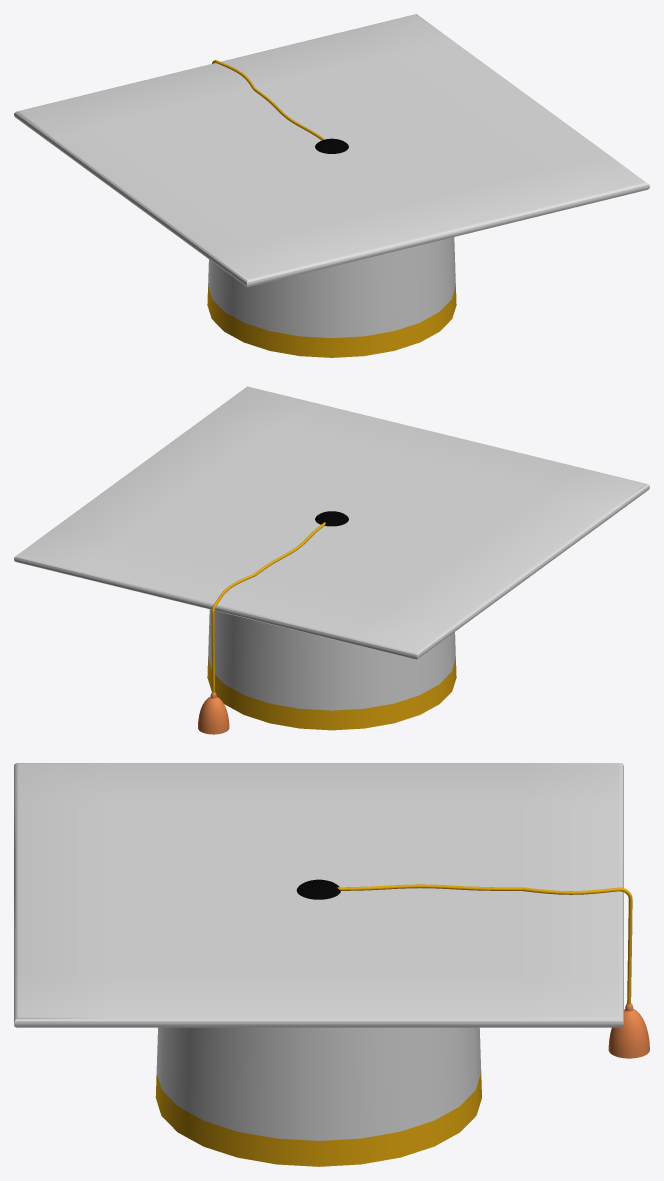
File: hat.fbx
3 renders of one model, top to bottom at view 1: azimuth 30°, elevation 25°; view 2: azimuth 150°, elevation 25°; view 3: azimuth 270°, elevation 25°, orthographic. The views are drawn at different scales.
Parts seen in each view (by area): view 1: Cube; view 2: Cube, Sphere.001, Cube.001; view 3: Cube, Cube.001, Sphere.001, Sphere.
Part boxes in pixels (x1,y1,x2,y2): Cube: [14, 14, 649, 357]; Cube: [14, 386, 649, 730]; Sphere.001: [198, 692, 229, 734]; Cube.001: [211, 522, 325, 692]; Cube: [14, 763, 623, 1166]; Cube.001: [337, 884, 632, 1004]; Sphere.001: [608, 1003, 649, 1058]; Sphere: [296, 879, 340, 899].
Size of the model in its own units: 562 by 217 by 586.
